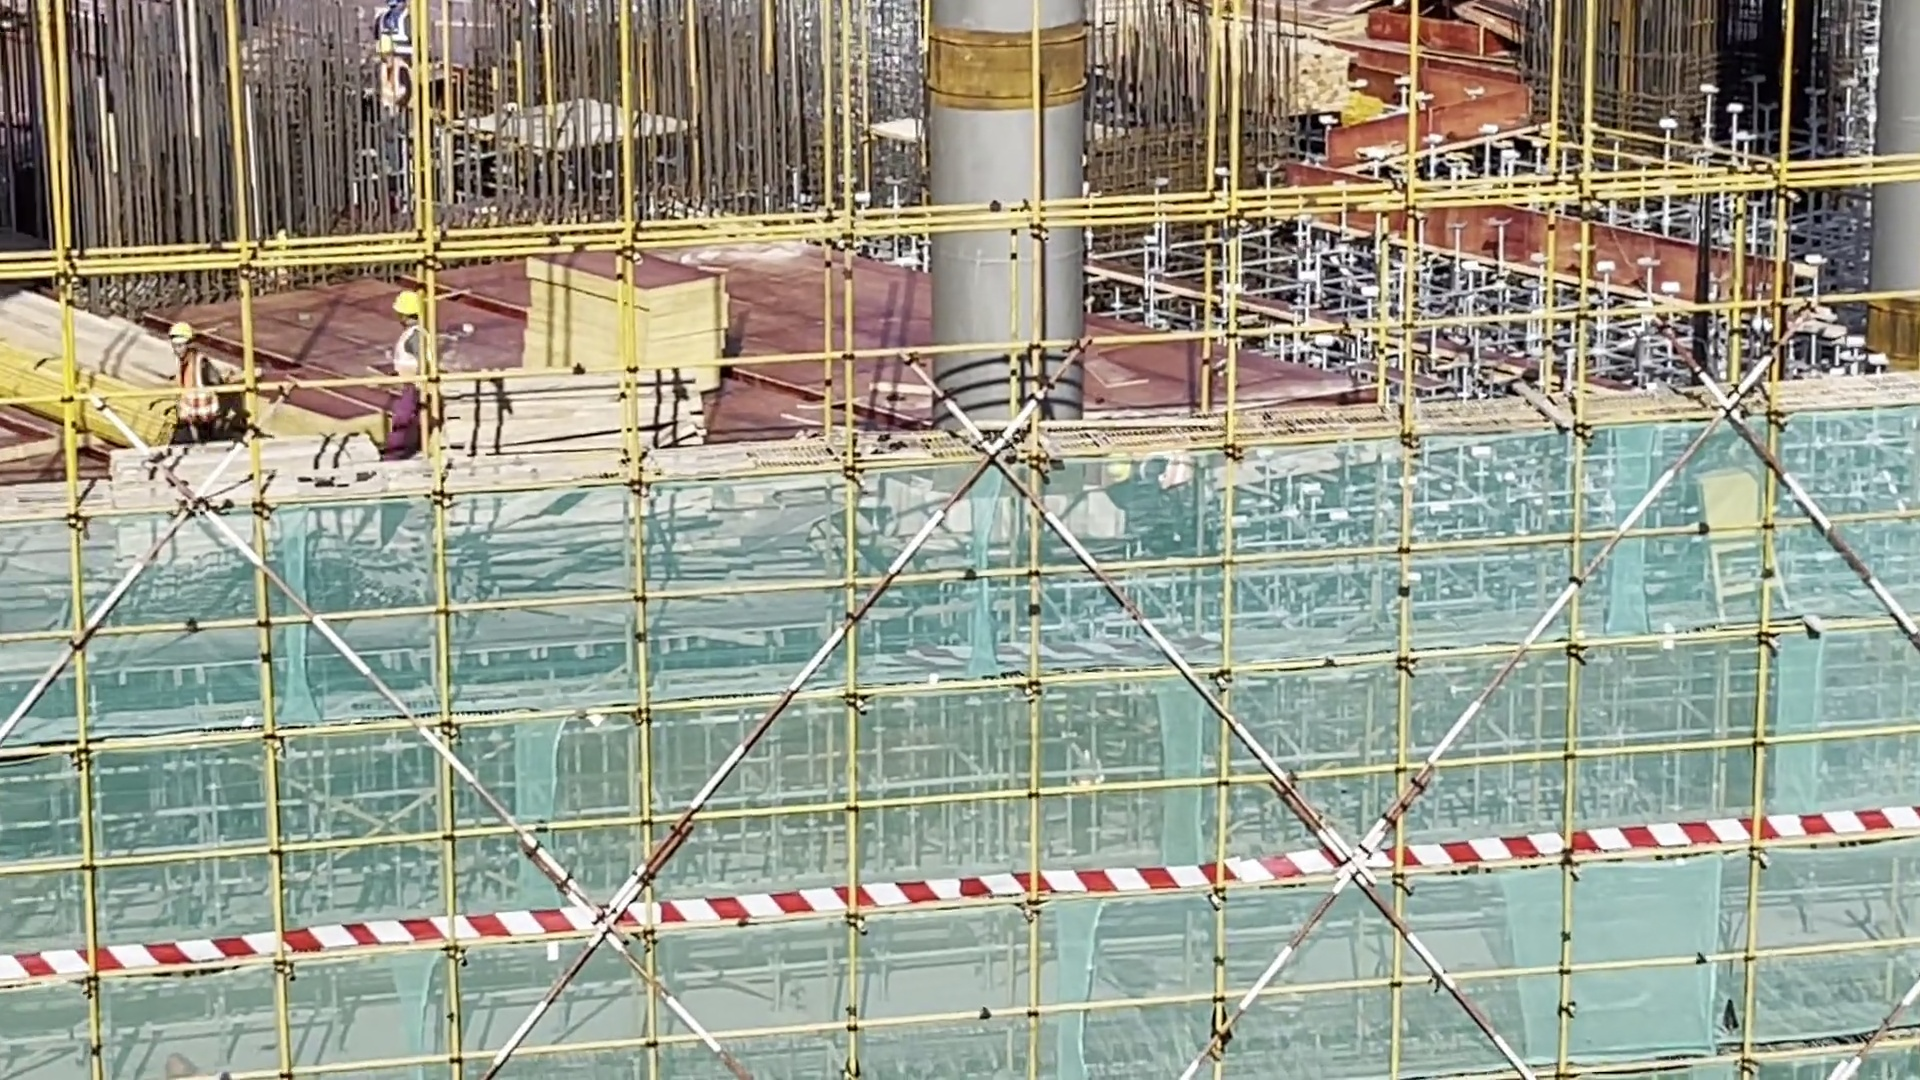helmet: (388, 283, 422, 324), (164, 315, 192, 341)
person: (150, 325, 247, 453), (378, 283, 457, 370)
vest: (165, 351, 230, 424), (380, 324, 431, 364)
